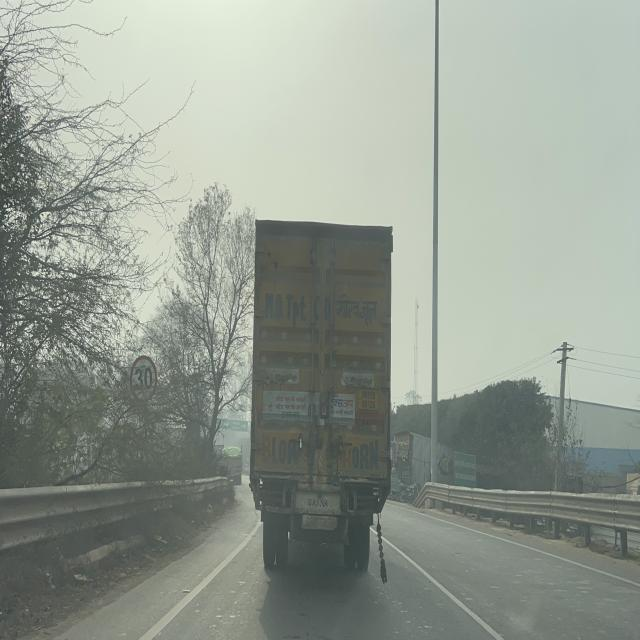SPEED_LIMIT_30: (130, 354, 158, 404)
